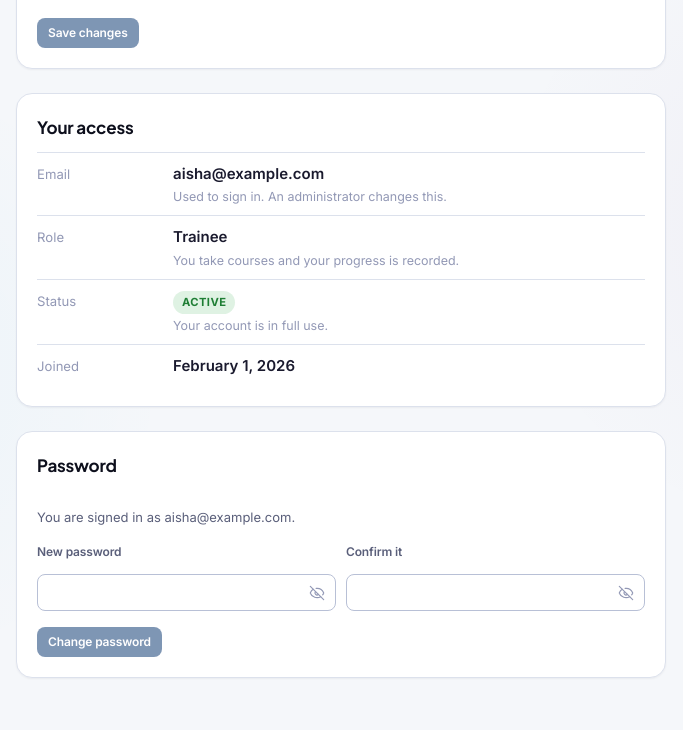
changing the password › refuses a mismatch, and says so
(page scrolled)
Type "correct-horse" into the password field labelled "New password" at (187, 593), box [37,574,336,611]
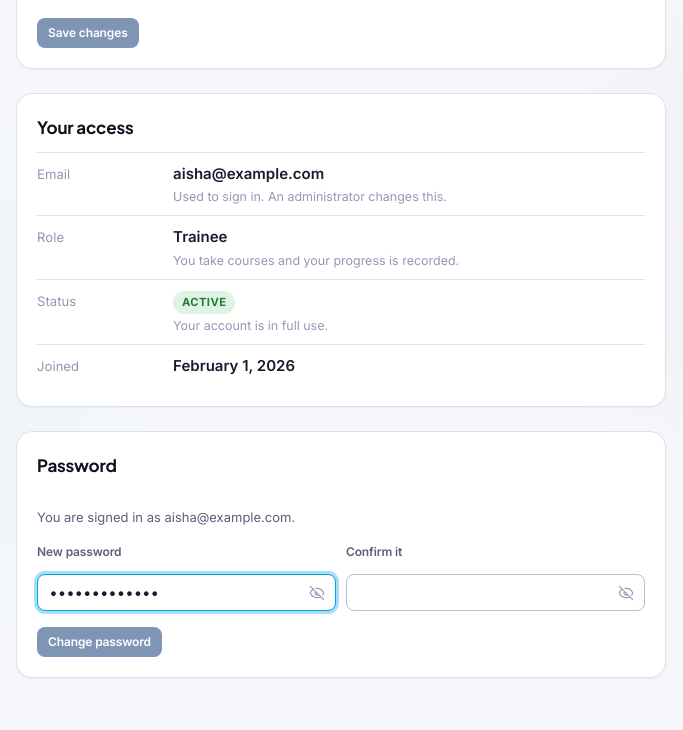
Type "correct-hors" into the password field labelled "Confirm it" at (495, 593), box [346,574,645,611]
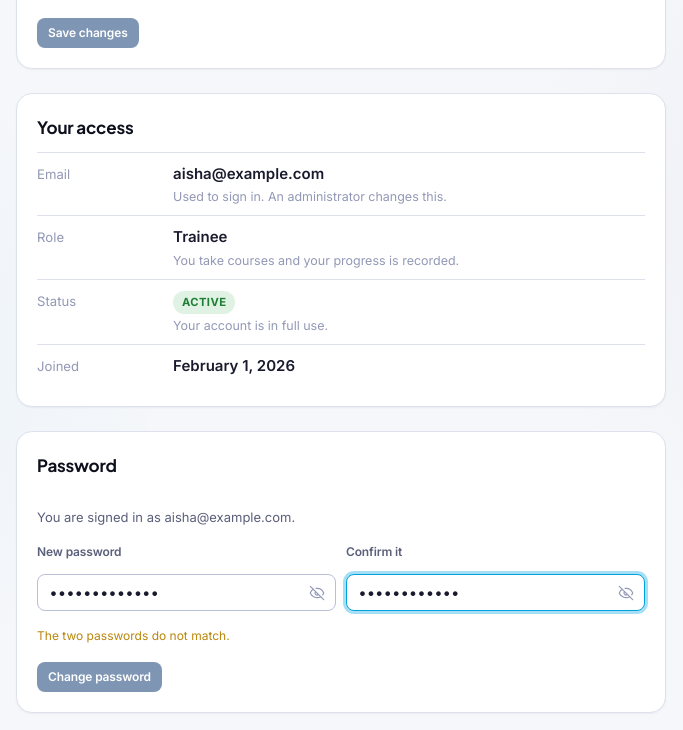
Expected: the button "Change password" is disabled, [37,662,162,692]
Expected: the text "The two passwords do not match." is shown, [37,628,230,643]
